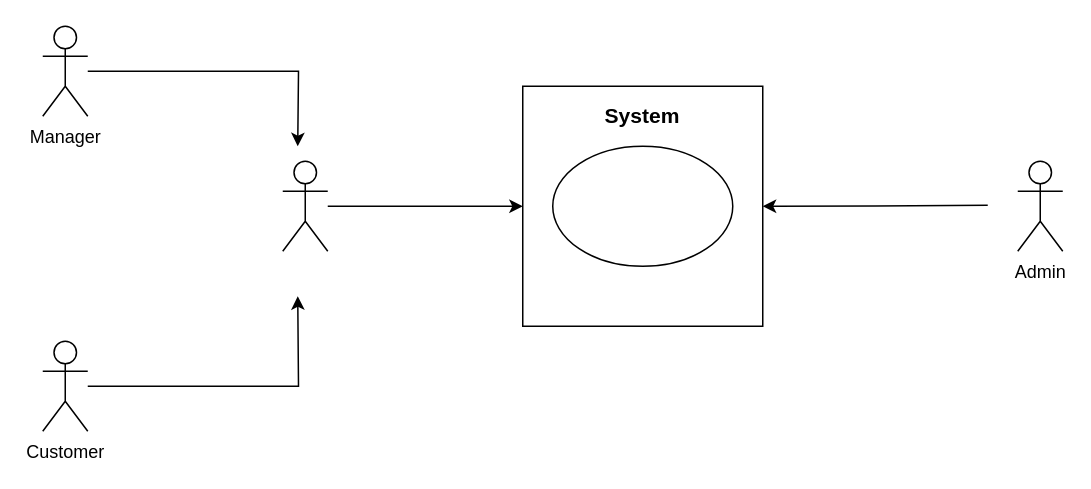
This 1091x489 diagram has some shape labels left out. The shapes that lost their labels are listed below. From the top down, each one's centre as x and y in pixels, then its label:
the point at 304,205: User
the point at 642,205: EZElectronics
